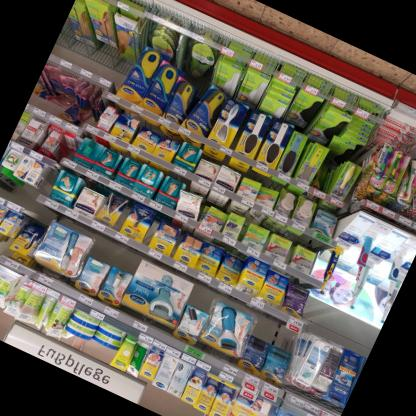empty_space: (386, 109, 416, 137)
